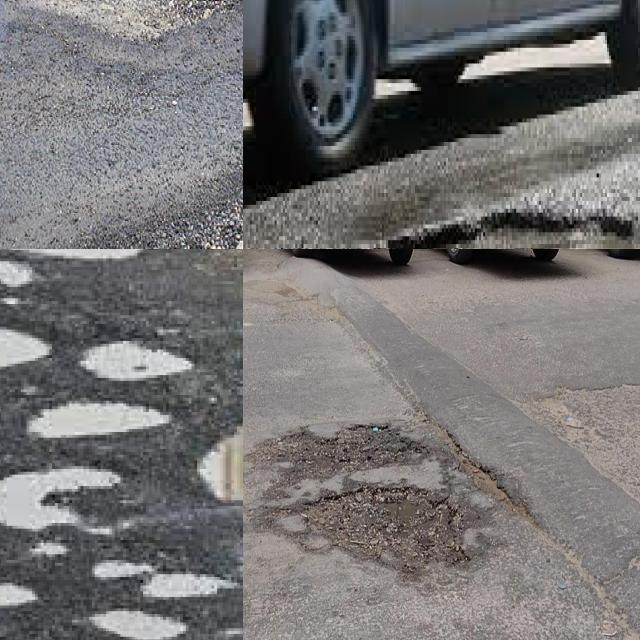Pothole: (305, 482, 462, 572), (269, 422, 411, 479), (0, 469, 120, 532), (26, 404, 169, 441), (81, 344, 191, 384), (200, 432, 243, 503), (0, 331, 49, 370)
